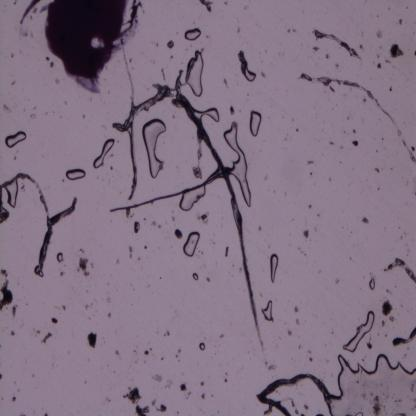Air bubble: (331, 353, 416, 415), (223, 122, 252, 208), (141, 119, 166, 180), (342, 310, 374, 354), (187, 48, 204, 96), (92, 137, 115, 169), (178, 186, 206, 212), (182, 231, 200, 258), (5, 130, 28, 150), (5, 181, 19, 209), (195, 107, 221, 122), (248, 110, 262, 137), (269, 252, 280, 284), (243, 66, 258, 84), (262, 300, 274, 322), (65, 168, 86, 180), (184, 28, 201, 41), (368, 276, 376, 292), (56, 251, 64, 263), (198, 342, 206, 352), (191, 273, 199, 281)
Background material: (0, 265, 13, 312), (18, 1, 40, 26), (122, 386, 142, 405), (370, 392, 383, 415), (77, 258, 91, 278), (237, 49, 248, 73), (389, 43, 405, 59), (86, 332, 98, 350), (197, 209, 211, 224), (198, 0, 214, 13), (381, 301, 393, 317), (39, 332, 53, 344), (135, 404, 150, 415), (163, 378, 174, 390), (54, 302, 67, 312), (3, 102, 12, 116), (173, 229, 184, 240), (174, 347, 182, 362), (154, 372, 164, 384), (154, 404, 168, 412), (306, 352, 316, 363), (143, 346, 153, 357), (268, 361, 277, 373), (127, 244, 134, 259), (133, 222, 141, 235), (178, 382, 188, 392), (166, 39, 175, 50), (223, 244, 230, 258), (222, 76, 230, 88), (286, 27, 299, 34), (360, 216, 370, 225), (160, 68, 166, 82), (50, 316, 59, 325), (311, 44, 320, 53), (126, 209, 135, 218), (292, 304, 300, 314), (303, 228, 309, 241), (376, 29, 383, 40), (150, 398, 158, 407), (223, 371, 229, 383), (12, 304, 17, 318), (380, 318, 386, 329), (8, 329, 16, 337), (328, 86, 336, 94), (351, 139, 359, 147), (303, 403, 310, 412), (59, 271, 66, 279), (374, 166, 381, 174), (163, 331, 171, 338), (200, 392, 206, 401), (334, 63, 340, 72), (49, 60, 55, 69), (199, 379, 205, 388), (306, 160, 315, 166), (229, 106, 235, 115), (151, 221, 158, 228), (205, 276, 211, 284), (376, 62, 382, 70), (325, 52, 331, 60), (366, 342, 372, 350), (388, 314, 394, 322), (398, 17, 403, 26), (11, 396, 17, 403), (295, 318, 300, 326), (220, 334, 226, 340), (30, 113, 37, 118), (287, 329, 292, 336), (45, 56, 50, 63), (114, 350, 120, 355), (388, 86, 392, 92)
Cellulose filter fibre: (174, 72, 264, 354), (300, 73, 416, 164), (0, 172, 79, 278), (254, 372, 332, 414), (112, 83, 174, 133), (119, 40, 138, 202), (313, 29, 360, 60), (384, 258, 416, 283), (391, 324, 416, 345), (193, 134, 203, 180)
Microfibre: (109, 172, 222, 213)
Pen: (44, 0, 144, 96)
